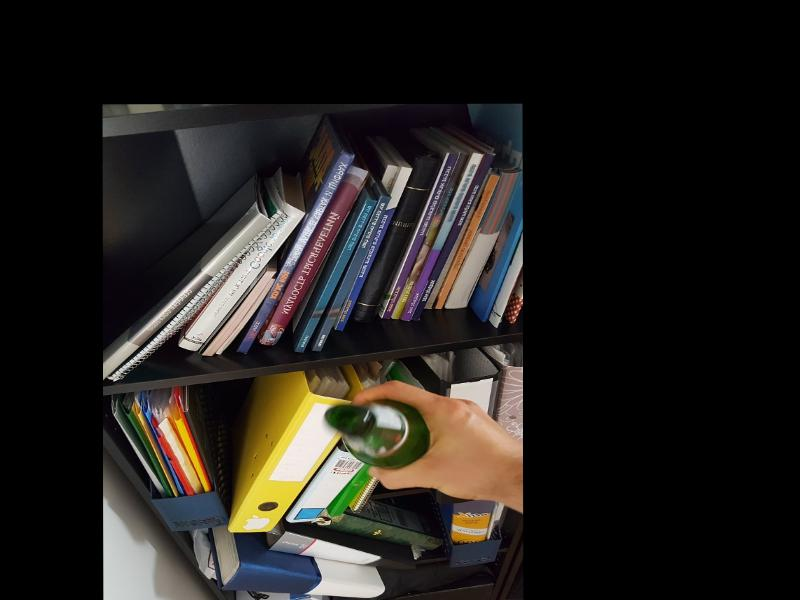Beer: (325, 400, 429, 469)
